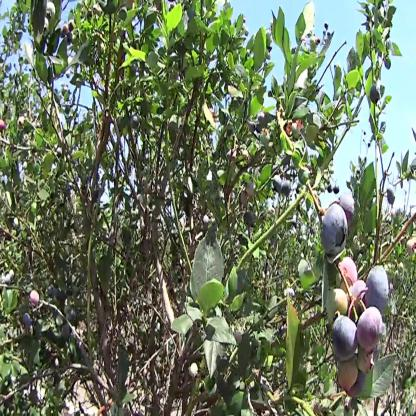intermediate: (340, 258, 359, 287), (31, 292, 42, 308), (1, 120, 5, 133)
mature: (322, 202, 349, 256), (332, 315, 359, 361), (366, 267, 389, 310), (358, 310, 383, 349), (273, 175, 292, 197), (369, 82, 381, 104), (386, 189, 396, 207), (328, 181, 340, 195)
young: (326, 289, 350, 321), (337, 362, 357, 393), (358, 351, 376, 376), (190, 363, 200, 381), (45, 6, 56, 22)
